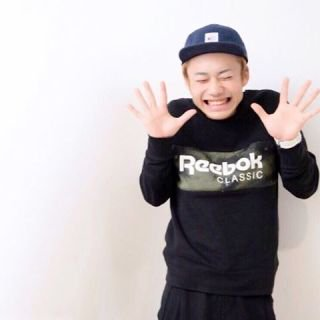face: (185, 52, 250, 119)
hand: (251, 75, 320, 139), (130, 77, 196, 137)
